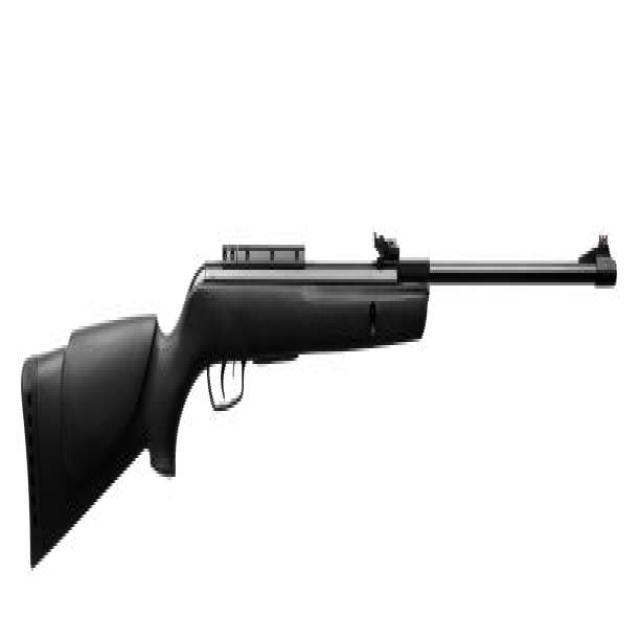rifle: (17, 215, 627, 584)
